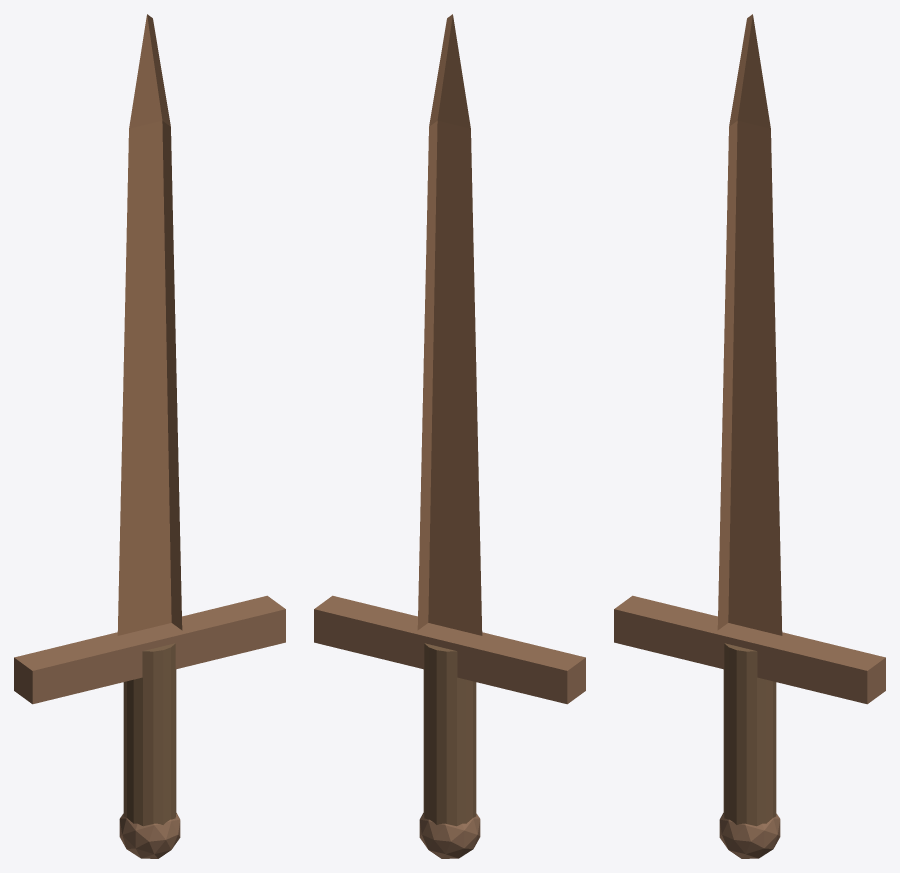
Rendered from rusted_longsword.glb.
3 views of the same model, side by side, from view 1: azimuth 30°, elevation 25°; view 2: azimuth 150°, elevation 25°; view 3: azimuth 330°, elevation 25° (orthographic).
Parts seen in each view (by area): view 1: sword_0_0, sword_0_1, sword_0_2, sword_0_3; view 2: sword_0_0, sword_0_1, sword_0_2, sword_0_3; view 3: sword_0_0, sword_0_1, sword_0_2, sword_0_3.
Boxes of the visible parts, <box> form: sword_0_0: <box>117,14,182,635</box>; sword_0_1: <box>14,595,285,704</box>; sword_0_2: <box>123,643,176,826</box>; sword_0_3: <box>119,813,180,858</box>; sword_0_0: <box>417,14,482,635</box>; sword_0_1: <box>314,595,585,704</box>; sword_0_2: <box>423,643,476,826</box>; sword_0_3: <box>419,813,480,858</box>; sword_0_0: <box>717,14,782,635</box>; sword_0_1: <box>614,595,885,704</box>; sword_0_2: <box>723,643,776,826</box>; sword_0_3: <box>719,813,780,858</box>.
Size of the model in its own units: 1.43 by 4.53 by 0.3123.
